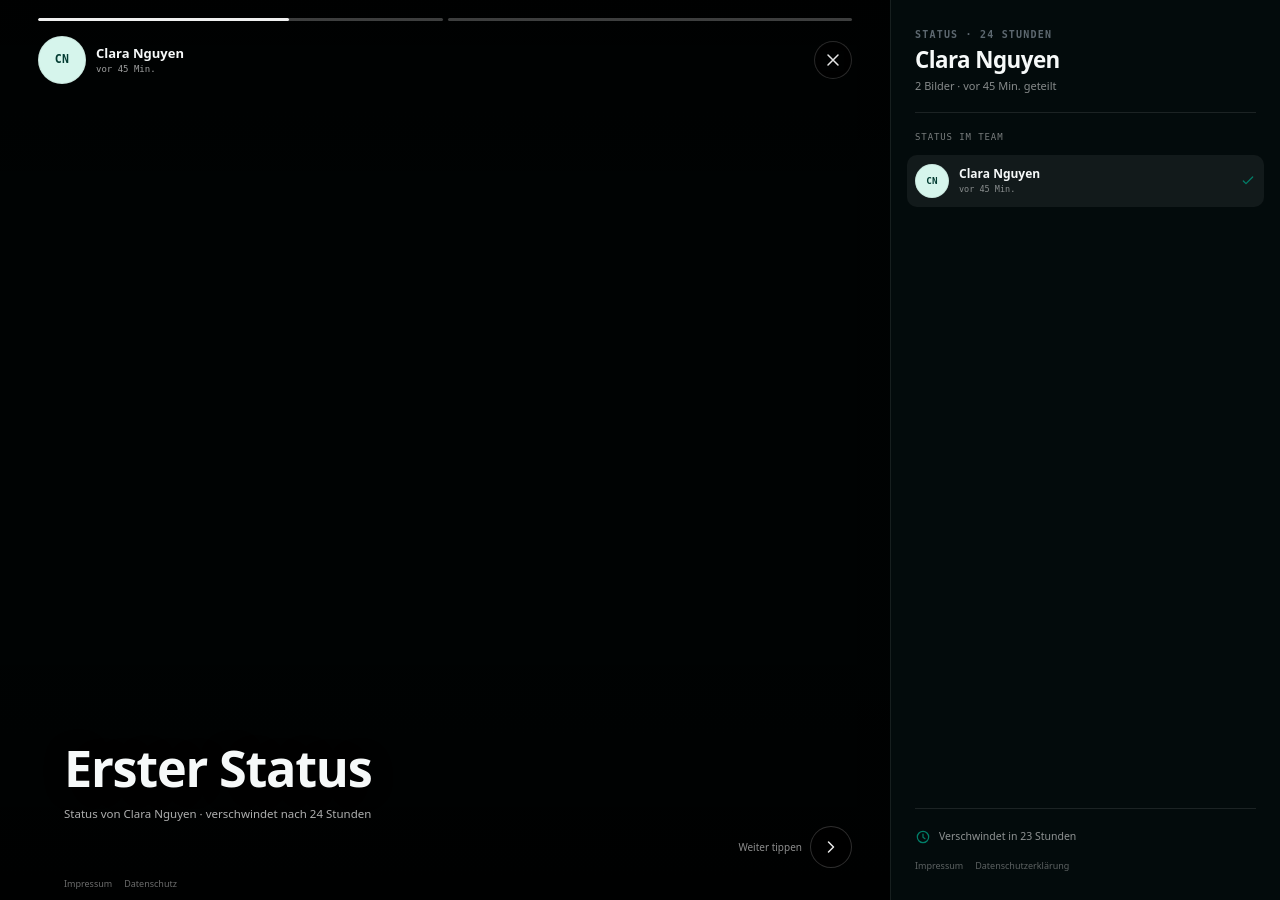
Test: StatusViewer › posts the view for the visible item and advances on tap
The image size is (1280, 900).
Expected: the heading "Erster Status" is shown, [64, 733, 372, 802]
Click the button named "Nächster Status": (831, 847) [810, 826, 852, 868]
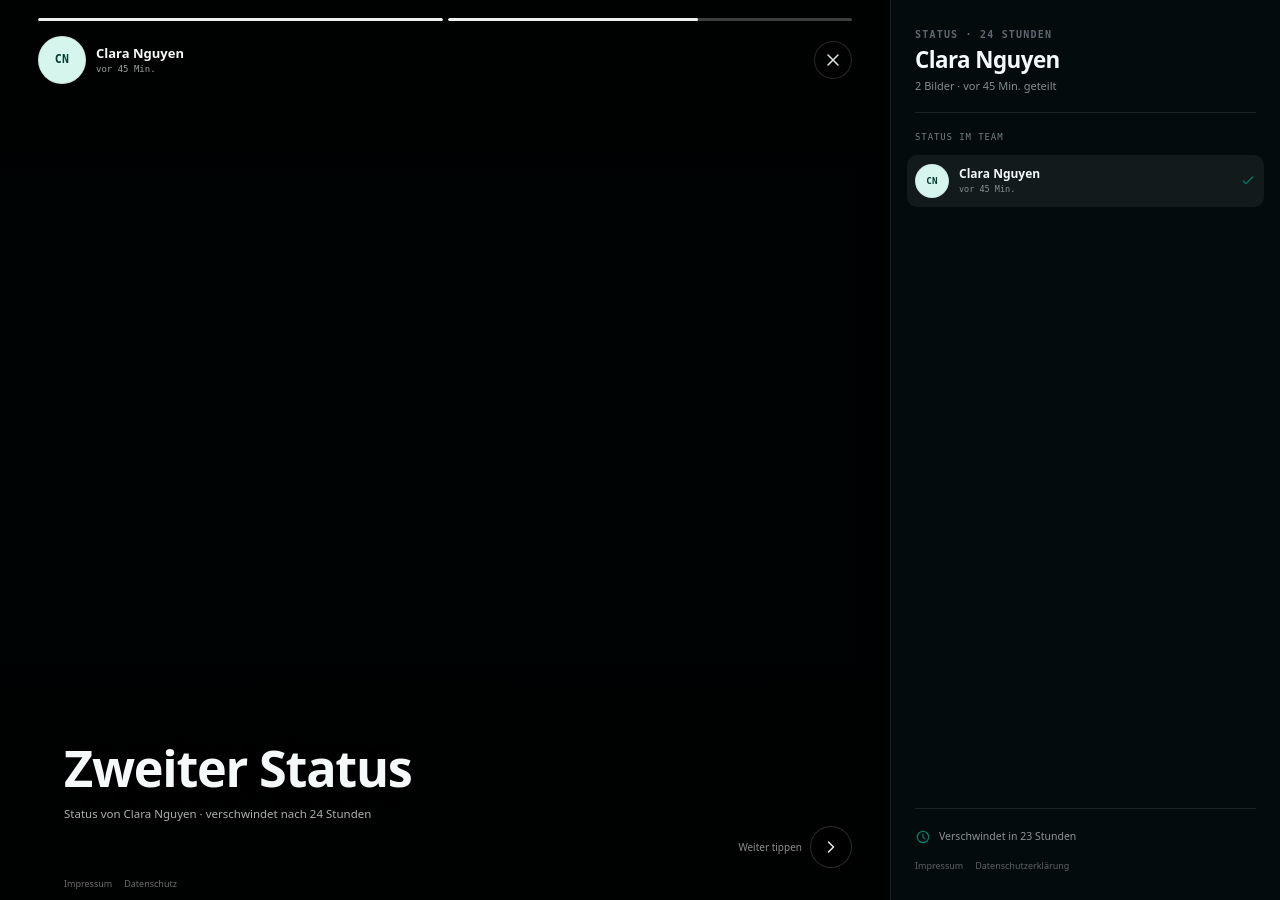
Now the heading "Zweiter Status" is shown, box [64, 733, 412, 802]
Click the button named "Nächster Status": (831, 847) [810, 826, 852, 868]
(page scrolled)
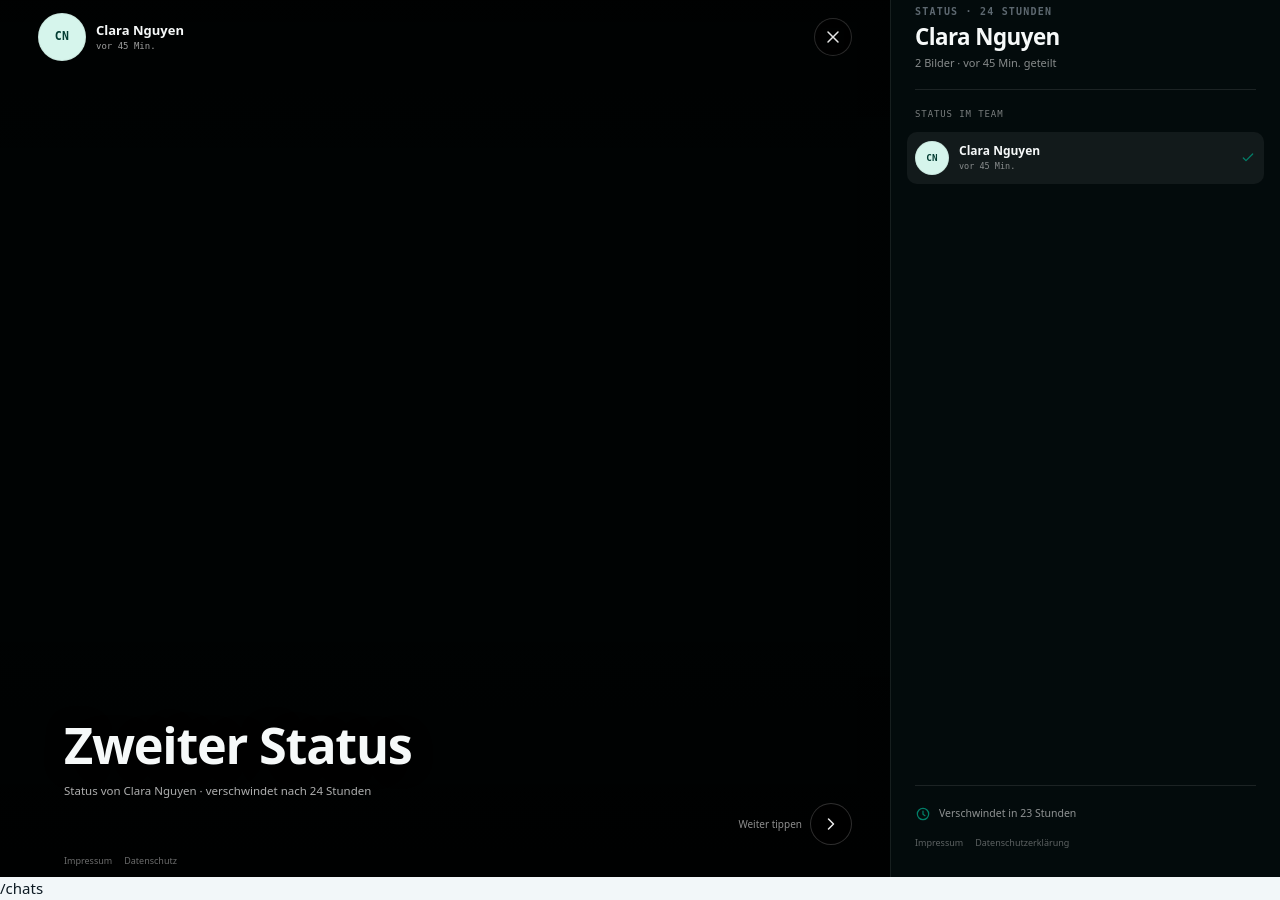
Now the text with test id "location" reads "/chats", box [0, 878, 43, 898]
